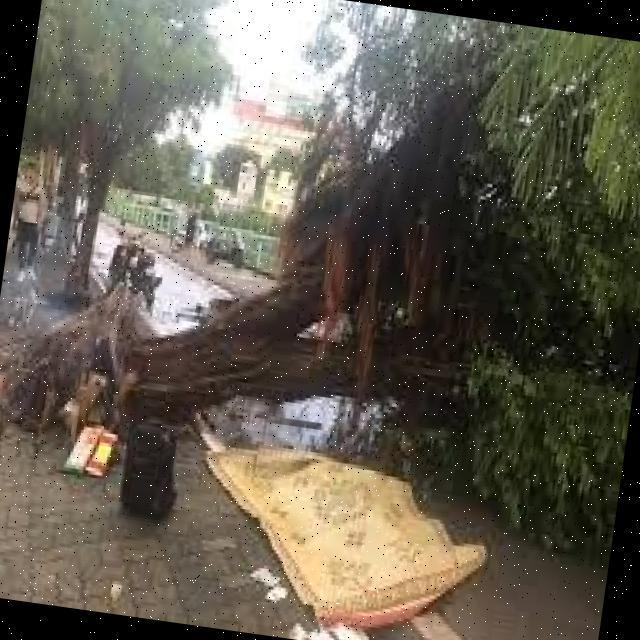fallen_object: (40, 242, 633, 482)
